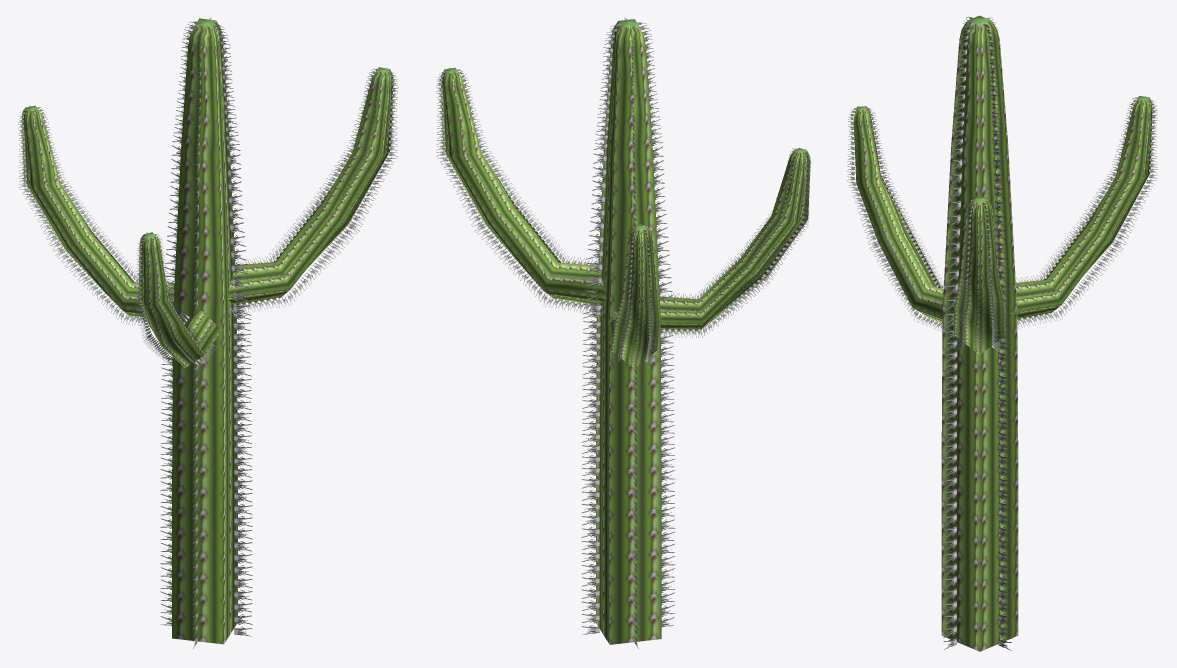
The model's file is des_cactusC.fbx.
The picture shows the model from 3 angles, left to right: view 1: azimuth 30°, elevation 25°; view 2: azimuth 150°, elevation 25°; view 3: azimuth 270°, elevation 25°; orthographic projection.
Parts seen in each view (by area): view 1: cactus1.001; view 2: cactus1.001; view 3: cactus1.001.
Part boxes in pixels (<box>): cactus1.001: <box>18,17,398,648</box>; cactus1.001: <box>436,18,810,648</box>; cactus1.001: <box>847,15,1157,651</box>.
Bounding box in the file's own units: 181 × 328 × 155.
1 material, 1 textured.
